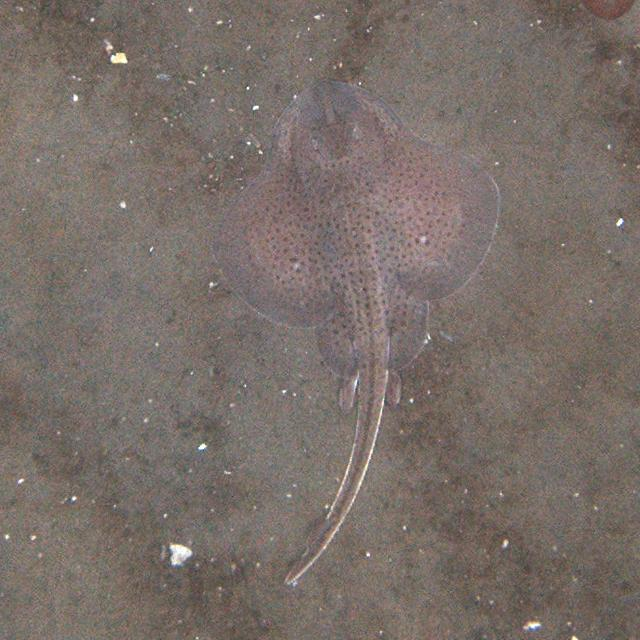skate: (204, 85, 505, 594)
